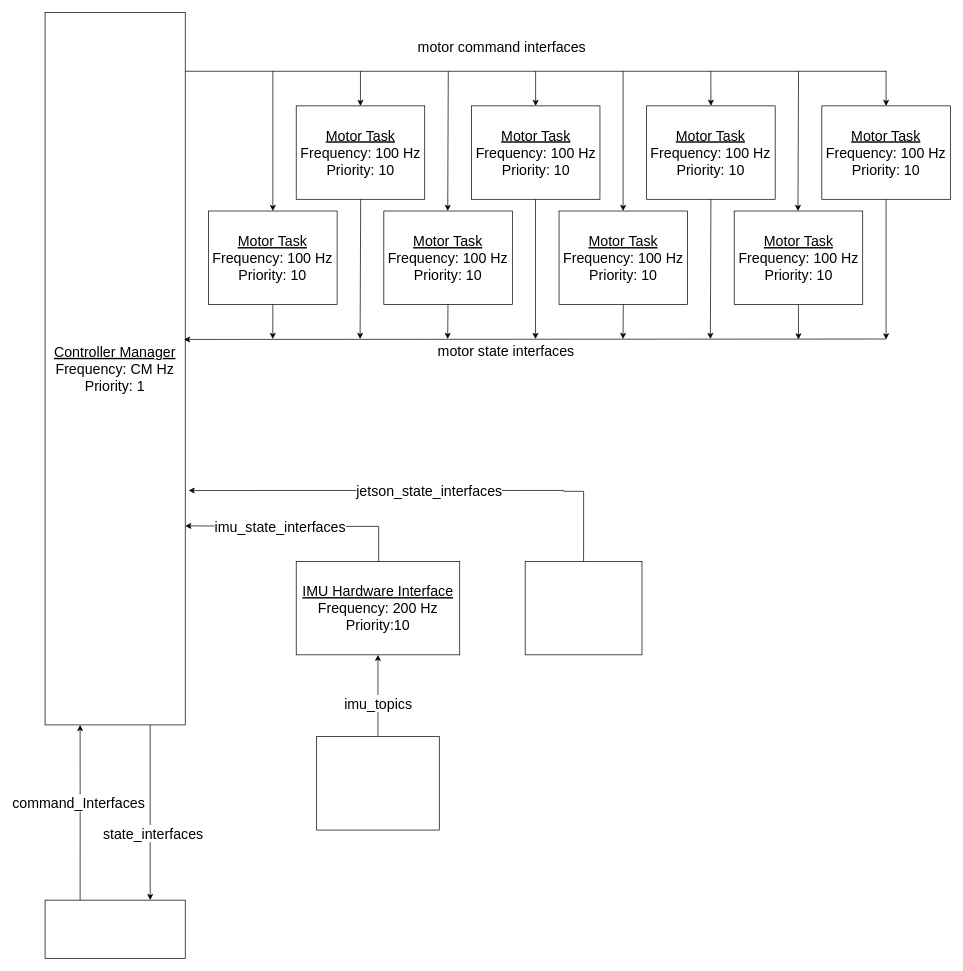
This 963x971 diagram has some shape labels left out. The box of each missing label's shape, as (x1, y1, x2, y2) in pixels:
IMU Node Frequency: CM Hz Priority:10: (316, 736, 439, 830)
Jetson Hardware Frequency: 30 Hz Priority:10: (524, 561, 642, 655)
ROS2 Controller Frequency: CM Hz Priority:2: (44, 899, 185, 959)
